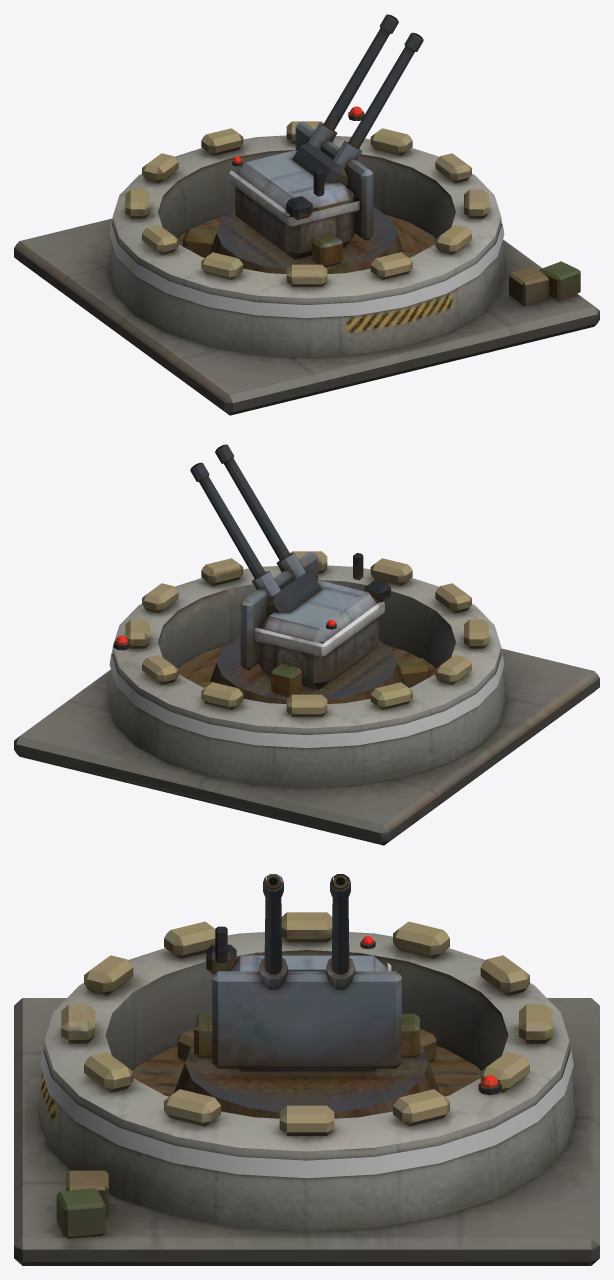
Rendered from agun.allies.glb.
3 renders of one model, top to bottom at view 1: azimuth 30°, elevation 25°; view 2: azimuth 150°, elevation 25°; view 3: azimuth 270°, elevation 25°, orthographic. The views are drawn at different scales.
Parts seen in each view (by area): view 1: root_mesh, turret_mesh, b1_mesh, b0_mesh, elev_mesh; view 2: root_mesh, turret_mesh, b0_mesh, b1_mesh, elev_mesh; view 3: root_mesh, turret_mesh, b1_mesh, b0_mesh.
Part boxes in pixels (<box>): root_mesh: <box>14,106,599,415</box>; turret_mesh: <box>208,121,404,273</box>; b1_mesh: <box>333,32,423,168</box>; b0_mesh: <box>308,14,398,150</box>; elev_mesh: <box>292,142,347,186</box>; root_mesh: <box>14,551,599,845</box>; turret_mesh: <box>209,551,405,703</box>; b0_mesh: <box>190,462,280,598</box>; b1_mesh: <box>215,444,305,580</box>; elev_mesh: <box>266,572,321,616</box>; root_mesh: <box>14,912,599,1265</box>; turret_mesh: <box>174,926,439,1118</box>; b1_mesh: <box>258,874,287,989</box>; b0_mesh: <box>326,874,355,989</box>.
Bounding box in the file's own units: 0.96 × 0.6024 × 0.96.
Materials: 1 (1 with a texture image).
